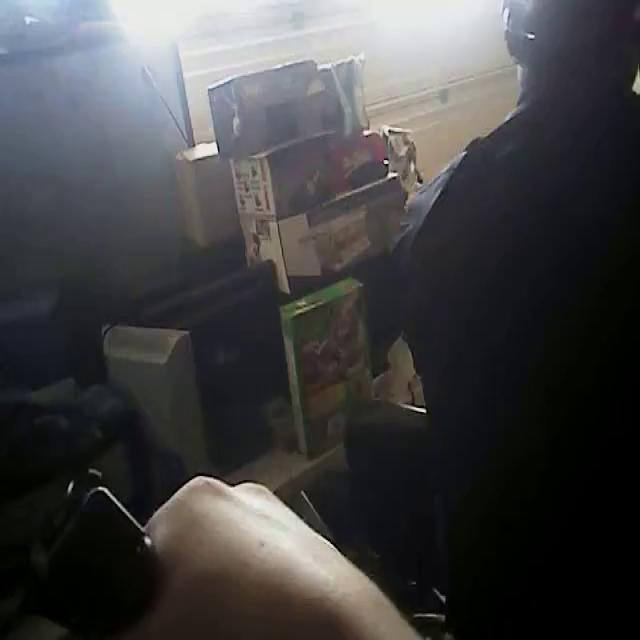gun: (0, 451, 191, 635)
